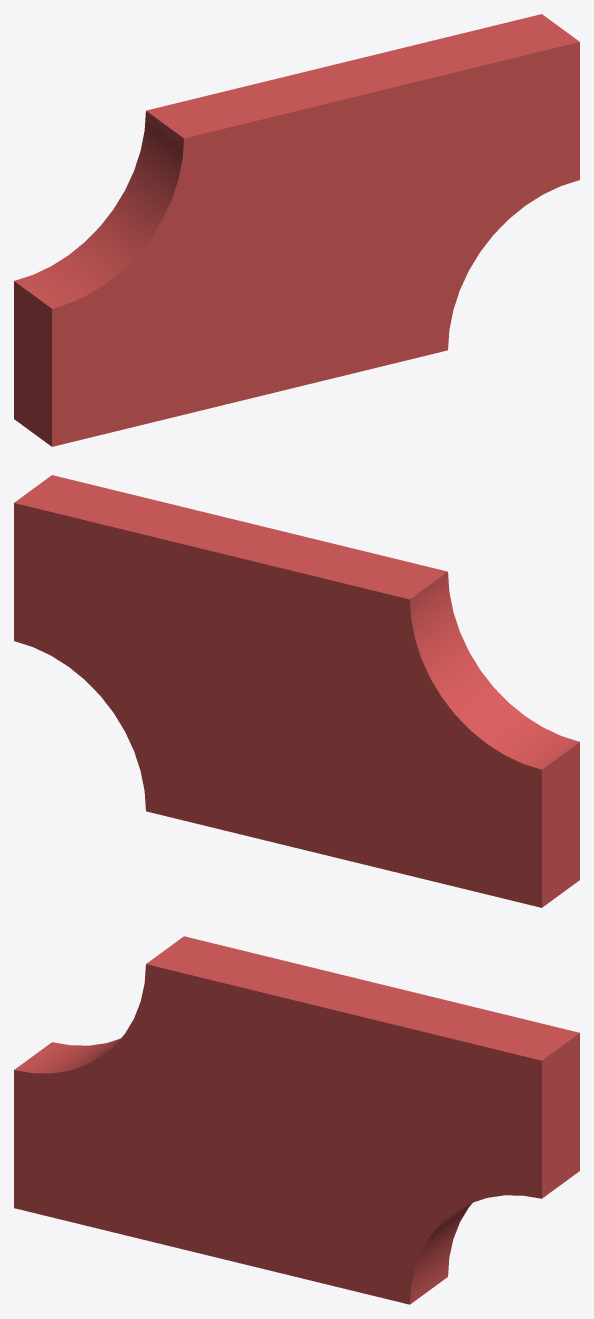
Rendered from anexo_2_-_modelo_02.glb.
3 views of the same model, one above another, from view 1: azimuth 30°, elevation 25°; view 2: azimuth 150°, elevation 25°; view 3: azimuth 330°, elevation 25° (orthographic).
Parts seen in each view (by area): view 1: Anexo 2 - Modelo 02.SLDPRT; view 2: Anexo 2 - Modelo 02.SLDPRT; view 3: Anexo 2 - Modelo 02.SLDPRT.
Boxes of the visible parts, bbox=[...] form: Anexo 2 - Modelo 02.SLDPRT: bbox=[14, 14, 579, 446]; Anexo 2 - Modelo 02.SLDPRT: bbox=[14, 475, 579, 907]; Anexo 2 - Modelo 02.SLDPRT: bbox=[14, 936, 579, 1304].
Size of the model in its own units: 0.04 by 0.02 by 0.005.
